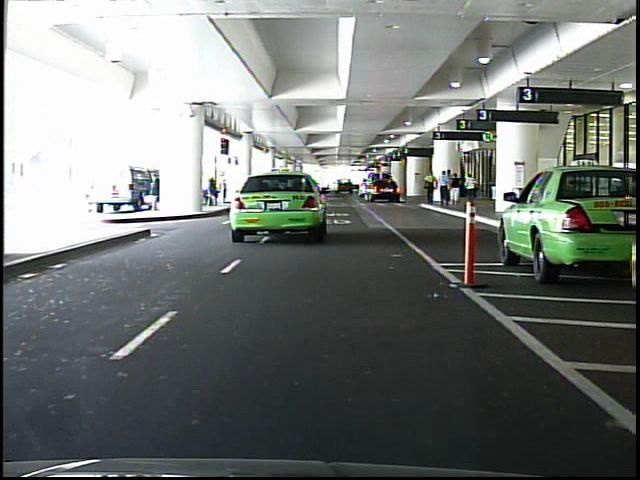person: (463, 169, 482, 210), (439, 165, 454, 210), (423, 167, 439, 209), (450, 172, 462, 212)
